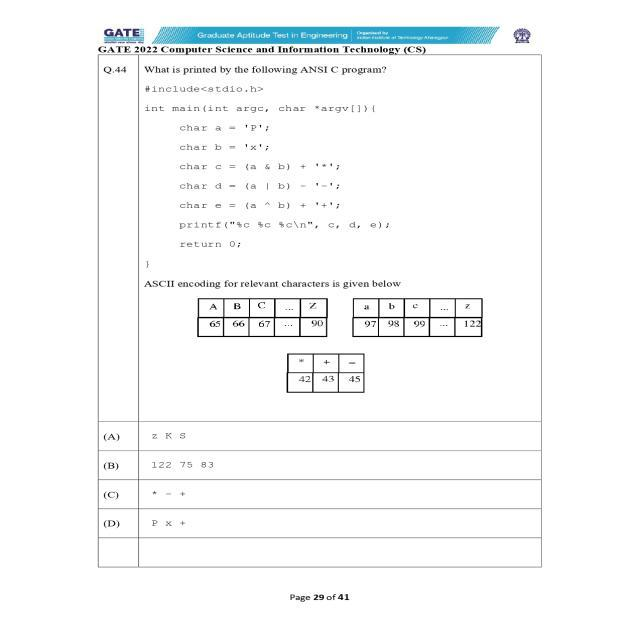Answer_Block: (99, 421, 542, 536)
Question_Answer_Block: (98, 56, 542, 536)
Question_Paper_Area: (99, 55, 540, 537)
